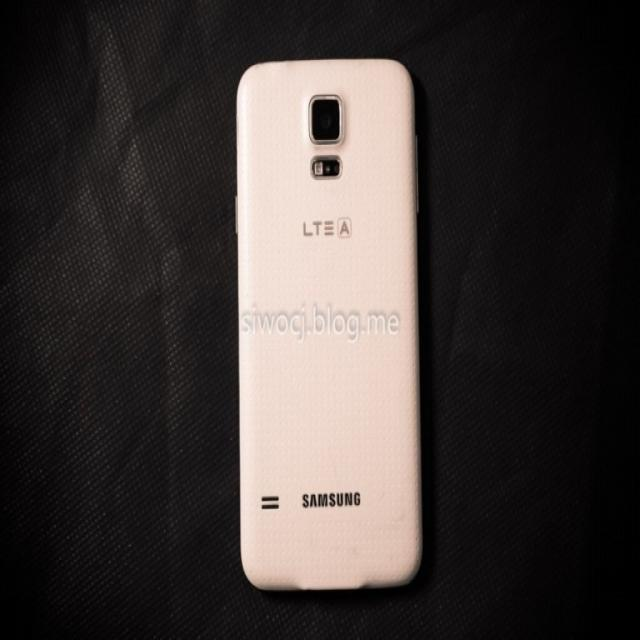phone: (238, 59, 422, 592)
